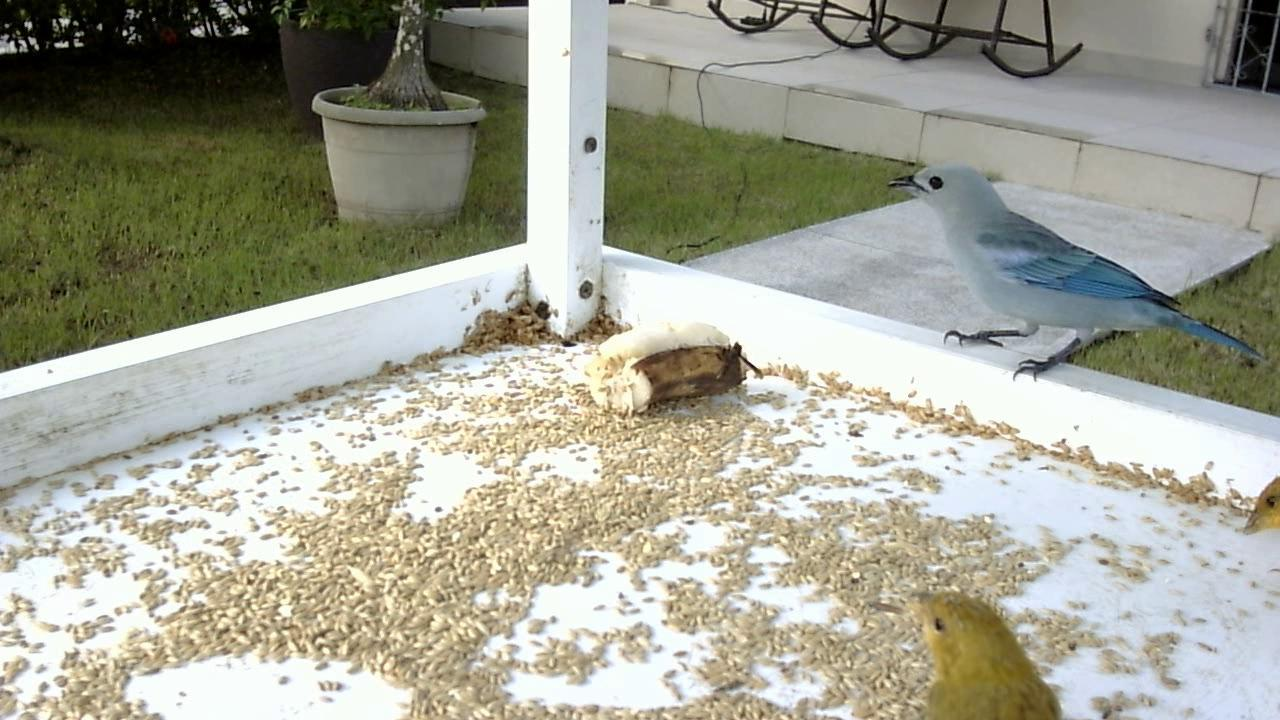canario_do_amazonas: (896, 586, 1075, 716), (1234, 458, 1278, 549)
sanhaco_da_amazonia: (884, 165, 1268, 392)
